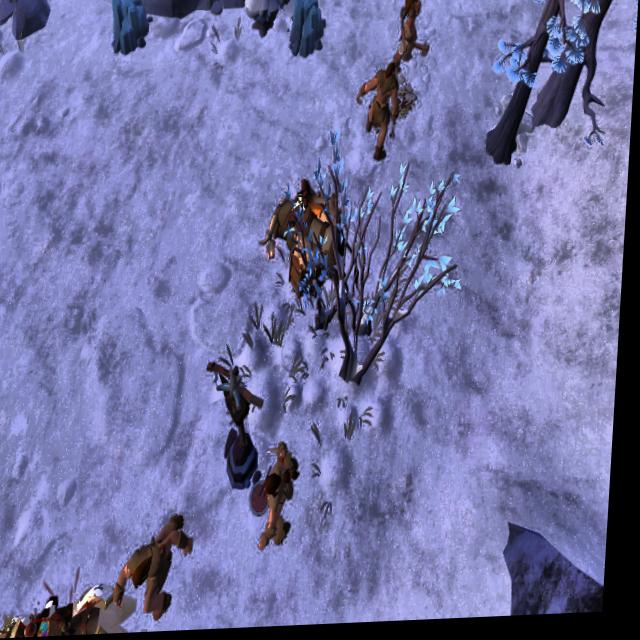enemy_factionKeeper: (353, 61, 405, 165), (392, 0, 431, 59)
rock_t4: (106, 0, 154, 55), (288, 0, 327, 60)
